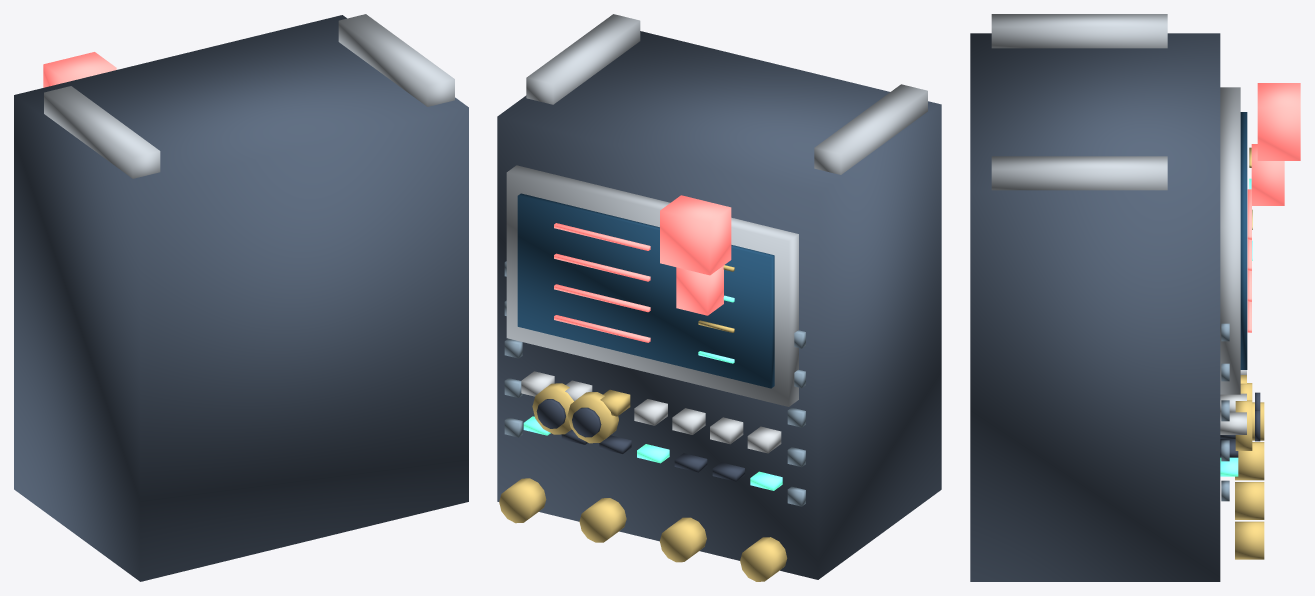
Rendered from L85_68_AsymmetricLatchFaultEmulator_Fitted.fbx.
3 renders of one model, left to right at view 1: azimuth 30°, elevation 25°; view 2: azimuth 150°, elevation 25°; view 3: azimuth 270°, elevation 25°, orthographic. The views are drawn at different scales.
Parts seen in each view (by area): view 1: L85_AsymmetricLatchFaultEmulator_Static__tint1A2434, L85_AsymmetricLatchFaultEmulator_Static__tintA8B8C7, L85_AsymmetricLatchFaultEmulator_ANIM_ASYMMETRIC_LATCH_FAULT; view 2: L85_AsymmetricLatchFaultEmulator_Static__tint1A2434, L85_AsymmetricLatchFaultEmulator_Static__tint071C3B, L85_AsymmetricLatchFaultEmulator_Static__tintA8B8C7, L85_AsymmetricLatchFaultEmulator_Static__tintF7B83D, L85_AsymmetricLatchFaultEmulator_ANIM_ASYMMETRIC_LATCH_FAULT, L85_AsymmetricLatchFaultEmulator_Static__tintFF3330, L85_AsymmetricLatchFaultEmulator_Static__tintCCD9E3, L85_AsymmetricLatchFaultEmulator_Static__tint111724, L85_AsymmetricLatchFaultEmulator_Static__tint527391, L85_AsymmetricLatchFaultEmulator_Static__tint24F09C; view 3: L85_AsymmetricLatchFaultEmulator_Static__tint1A2434, L85_AsymmetricLatchFaultEmulator_Static__tintA8B8C7, L85_AsymmetricLatchFaultEmulator_Static__tintF7B83D, L85_AsymmetricLatchFaultEmulator_ANIM_ASYMMETRIC_LATCH_FAULT, L85_AsymmetricLatchFaultEmulator_Static__tintFF3330, L85_AsymmetricLatchFaultEmulator_Static__tint071C3B, L85_AsymmetricLatchFaultEmulator_Static__tint527391, L85_AsymmetricLatchFaultEmulator_Static__tintCCD9E3, L85_AsymmetricLatchFaultEmulator_Static__tint111724.
Part boxes in pixels (bbox=[...]): L85_AsymmetricLatchFaultEmulator_Static__tint1A2434: bbox=[14, 15, 468, 581]; L85_AsymmetricLatchFaultEmulator_Static__tintA8B8C7: bbox=[44, 14, 454, 178]; L85_AsymmetricLatchFaultEmulator_ANIM_ASYMMETRIC_LATCH_FAULT: bbox=[43, 52, 116, 87]; L85_AsymmetricLatchFaultEmulator_Static__tint1A2434: bbox=[497, 31, 941, 579]; L85_AsymmetricLatchFaultEmulator_Static__tint071C3B: bbox=[517, 193, 774, 388]; L85_AsymmetricLatchFaultEmulator_Static__tintA8B8C7: bbox=[506, 14, 927, 406]; L85_AsymmetricLatchFaultEmulator_Static__tintF7B83D: bbox=[499, 265, 787, 581]; L85_AsymmetricLatchFaultEmulator_ANIM_ASYMMETRIC_LATCH_FAULT: bbox=[660, 195, 731, 275]; L85_AsymmetricLatchFaultEmulator_Static__tintFF3330: bbox=[554, 223, 723, 342]; L85_AsymmetricLatchFaultEmulator_Static__tintCCD9E3: bbox=[521, 371, 781, 453]; L85_AsymmetricLatchFaultEmulator_Static__tint111724: bbox=[536, 399, 744, 481]; L85_AsymmetricLatchFaultEmulator_Static__tint527391: bbox=[504, 261, 805, 506]; L85_AsymmetricLatchFaultEmulator_Static__tint24F09C: bbox=[523, 295, 782, 490]; L85_AsymmetricLatchFaultEmulator_Static__tint1A2434: bbox=[970, 33, 1220, 581]; L85_AsymmetricLatchFaultEmulator_Static__tintA8B8C7: bbox=[991, 14, 1240, 394]; L85_AsymmetricLatchFaultEmulator_Static__tintF7B83D: bbox=[1235, 147, 1264, 559]; L85_AsymmetricLatchFaultEmulator_ANIM_ASYMMETRIC_LATCH_FAULT: bbox=[1257, 83, 1300, 160]; L85_AsymmetricLatchFaultEmulator_Static__tintFF3330: bbox=[1247, 144, 1284, 332]; L85_AsymmetricLatchFaultEmulator_Static__tint071C3B: bbox=[1240, 112, 1247, 369]; L85_AsymmetricLatchFaultEmulator_Static__tint527391: bbox=[1221, 323, 1229, 501]; L85_AsymmetricLatchFaultEmulator_Static__tintCCD9E3: bbox=[1220, 370, 1246, 434]; L85_AsymmetricLatchFaultEmulator_Static__tint111724: bbox=[1220, 392, 1260, 457].
Size of the model in its own units: 9.2 by 11.13 by 8.11.
